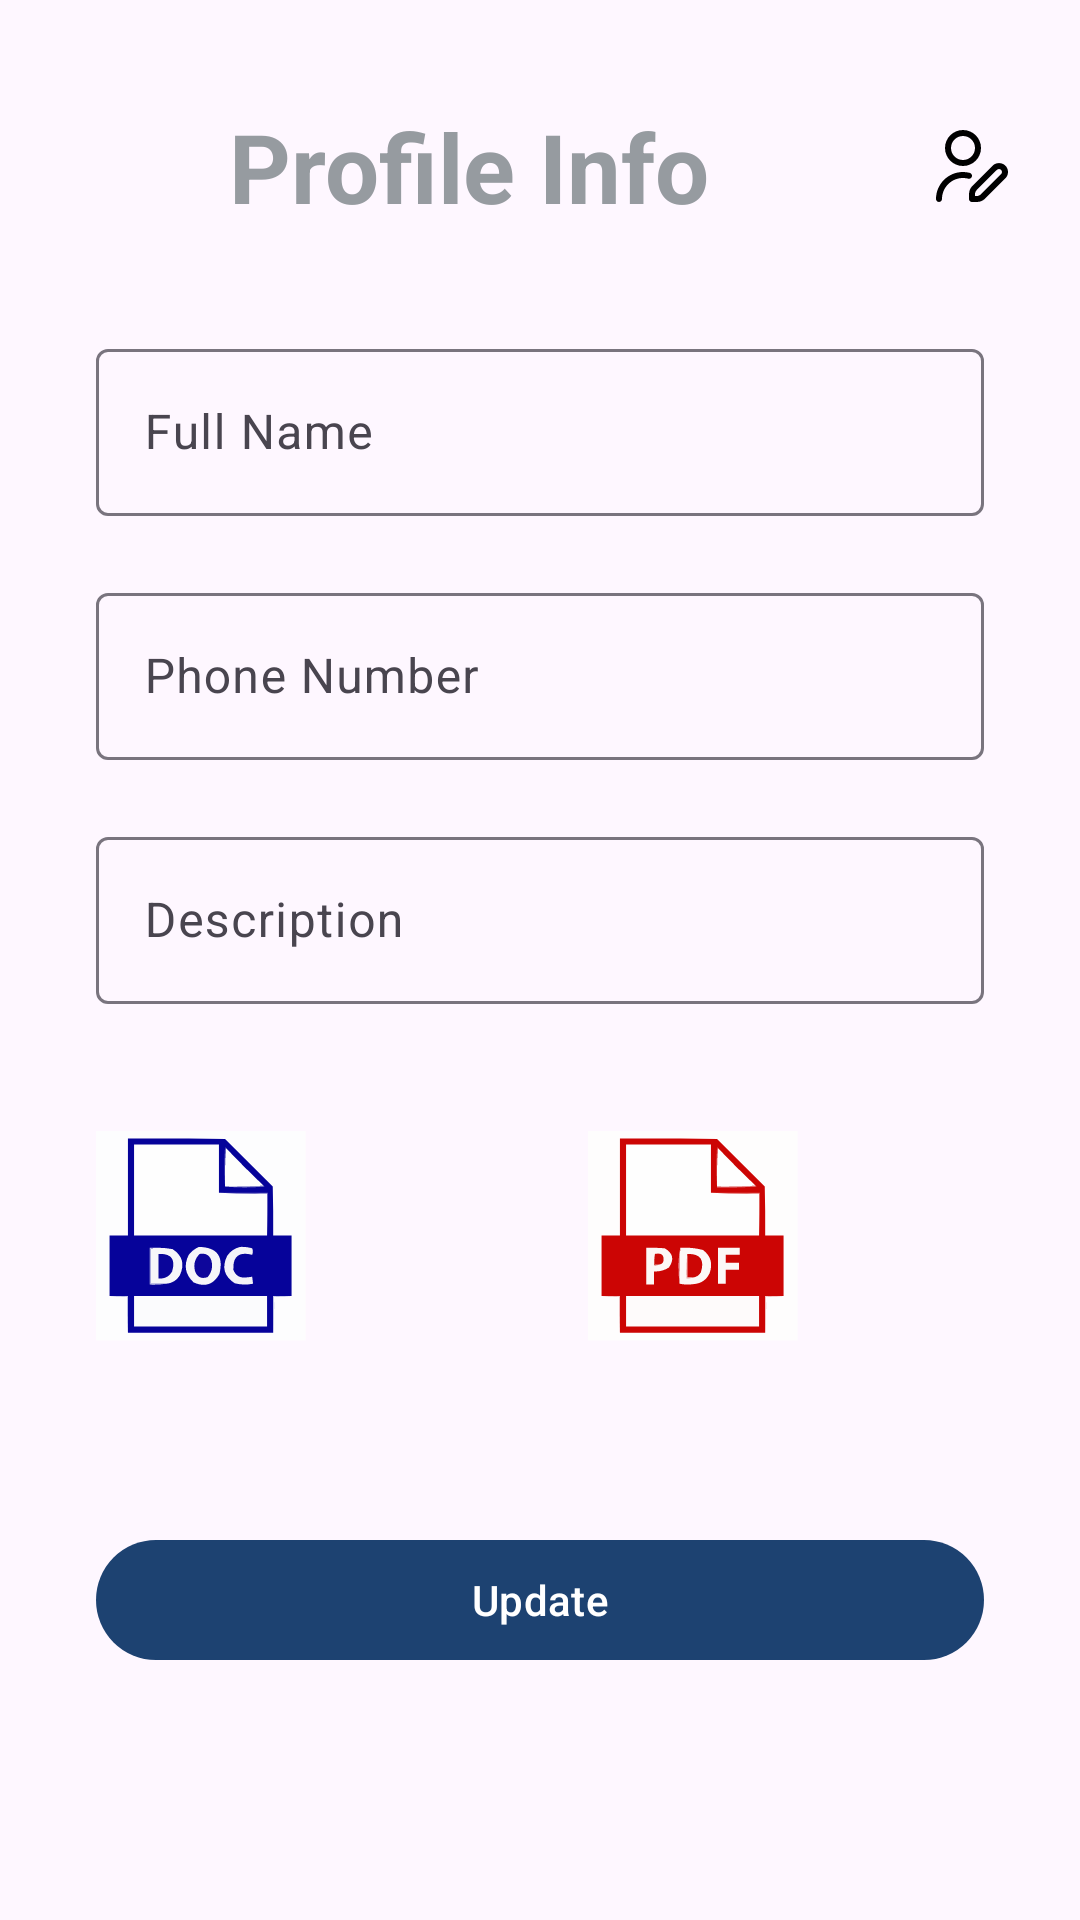

Icons on this 1080px×1920px Android screen, each with its box as box(x1, y1, x2, y2):
edit user: box(936, 130, 1008, 202)
